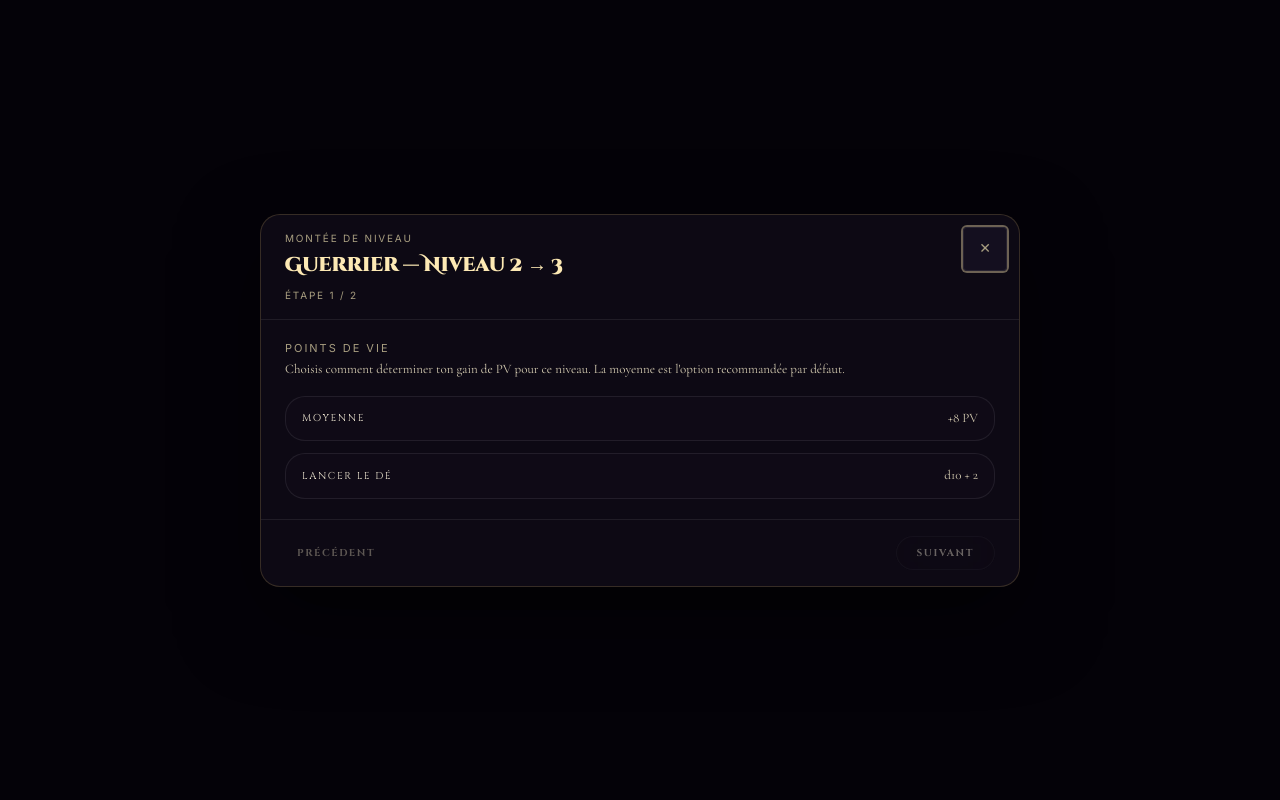
Scenario: LevelUpModal — coquille UI (JALON 2B.4c) › Précédent revient à l’étape précédente sans perdre le choix
# Pose HP, avance, recule, vérifie qu'on revient à l'écran HP avec l'option encore active.
Click the button "Moyenne +8 PV" at (334, 418), box [285,396,995,441]
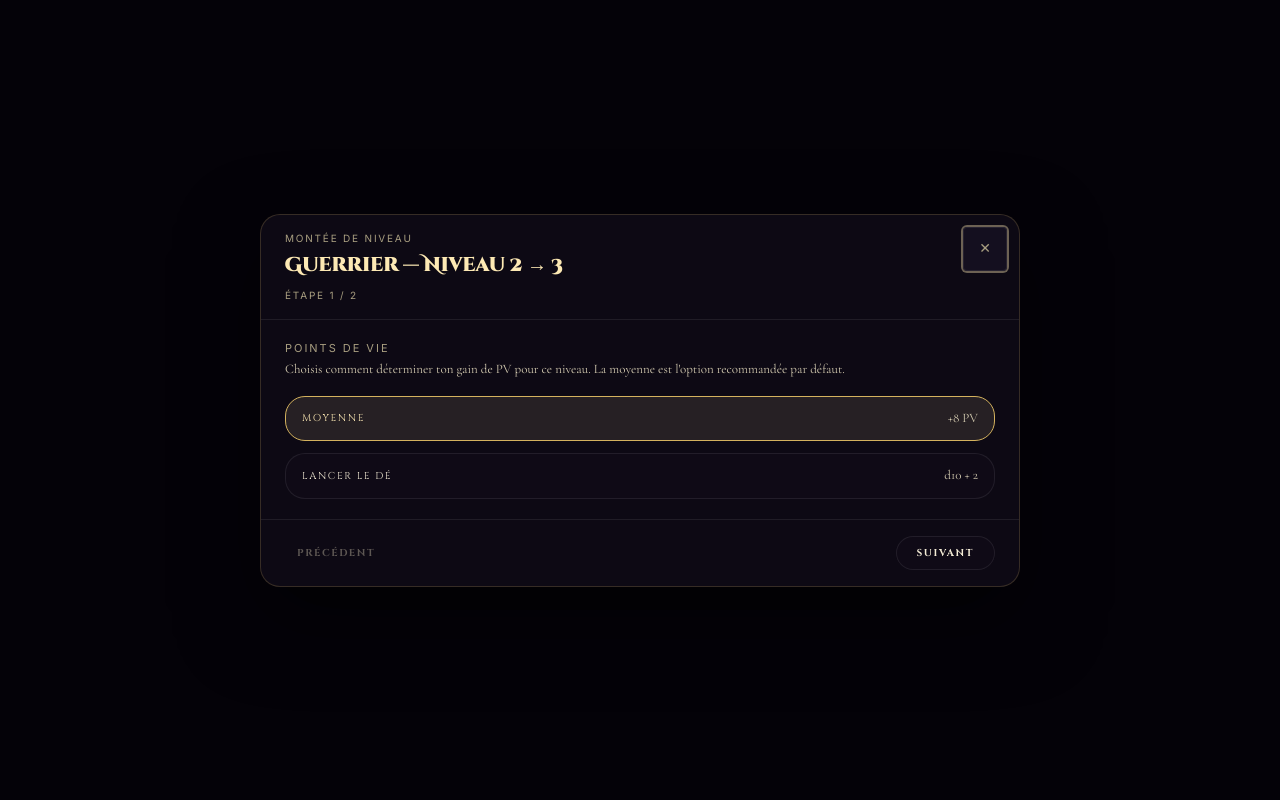
Click the button "Suivant" at (945, 552), box [896,536,995,570]
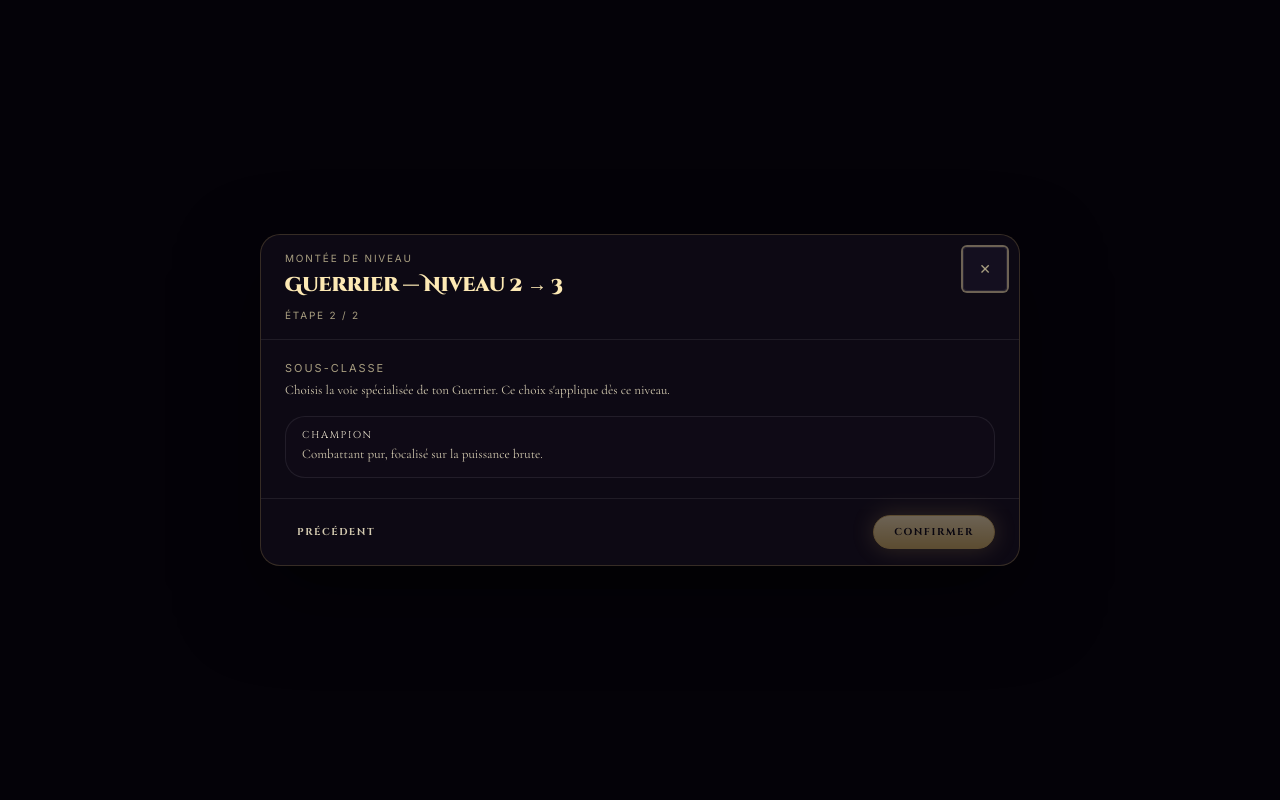
Result: the text "Étape 2 / 2" is shown at [285,309,360,321]
Click the button "Précédent" at (336, 532), box [285,520,387,544]
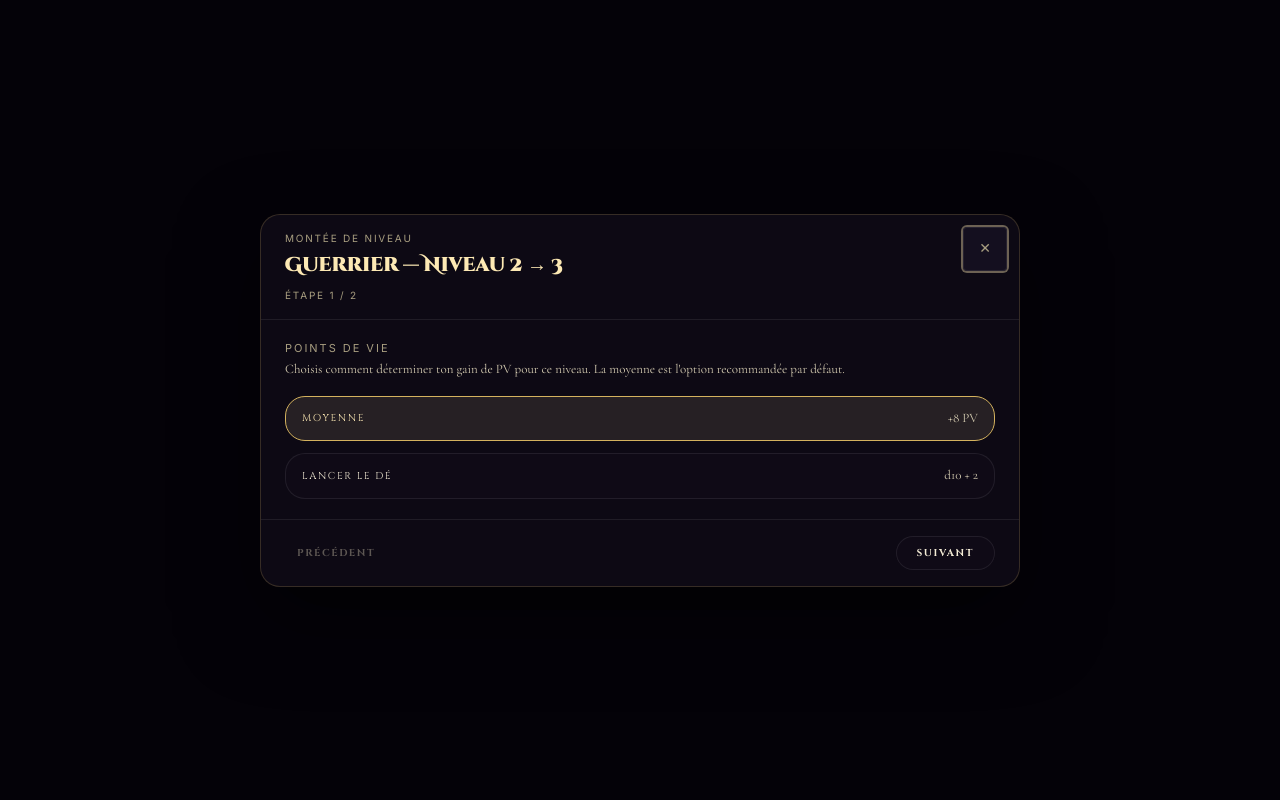
Result: the text "Étape 1 / 2" is shown at [285,288,358,300]
